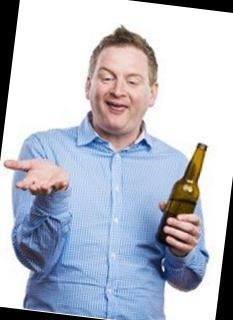Drunk: (95, 50, 146, 130)
